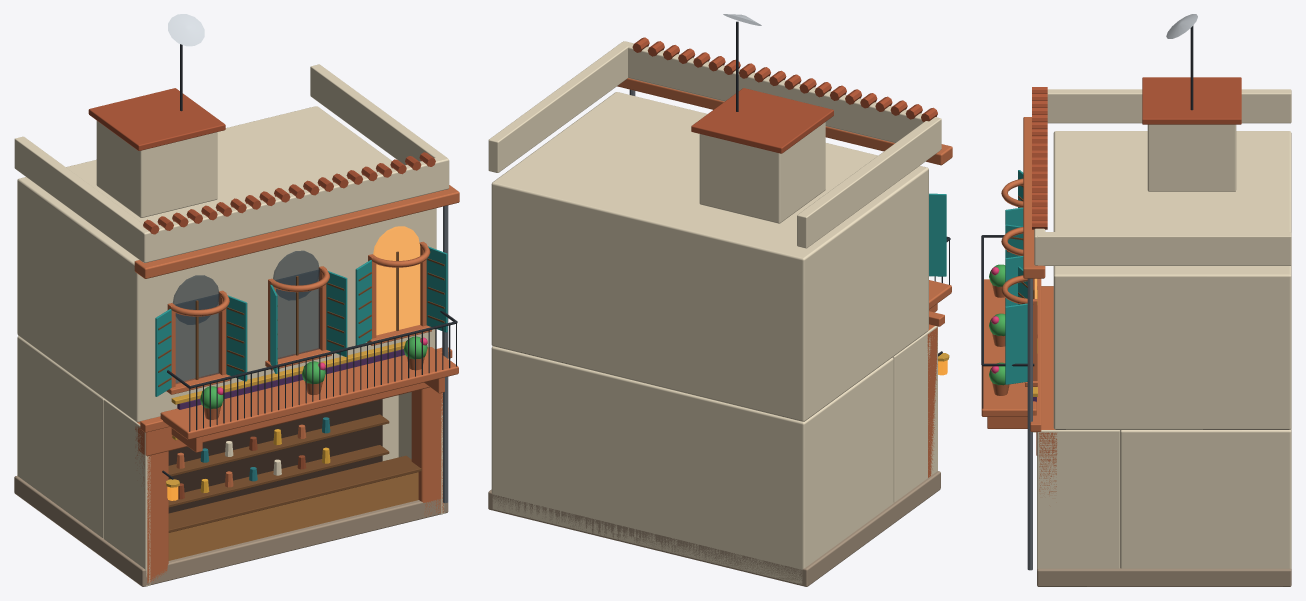
File: mk_house_c.glb
3 views of the same model, side by side, from view 1: azimuth 30°, elevation 25°; view 2: azimuth 150°, elevation 25°; view 3: azimuth 270°, elevation 25° (orthographic). The views are drawn at different scales.
Parts seen in each view (by area): view 1: mk_house_c_body; view 2: mk_house_c_body; view 3: mk_house_c_body.
Boxes of the visible parts, <box> form: mk_house_c_body: <box>14,14,459,586</box>; mk_house_c_body: <box>488,14,952,586</box>; mk_house_c_body: <box>981,14,1291,586</box>.
Size of the model in its own units: 6.5 by 9.56 by 5.61.
